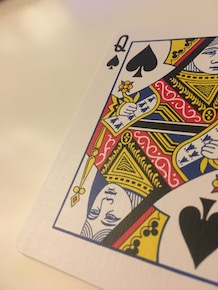QueenOfSpades: (12, 23, 218, 288)
